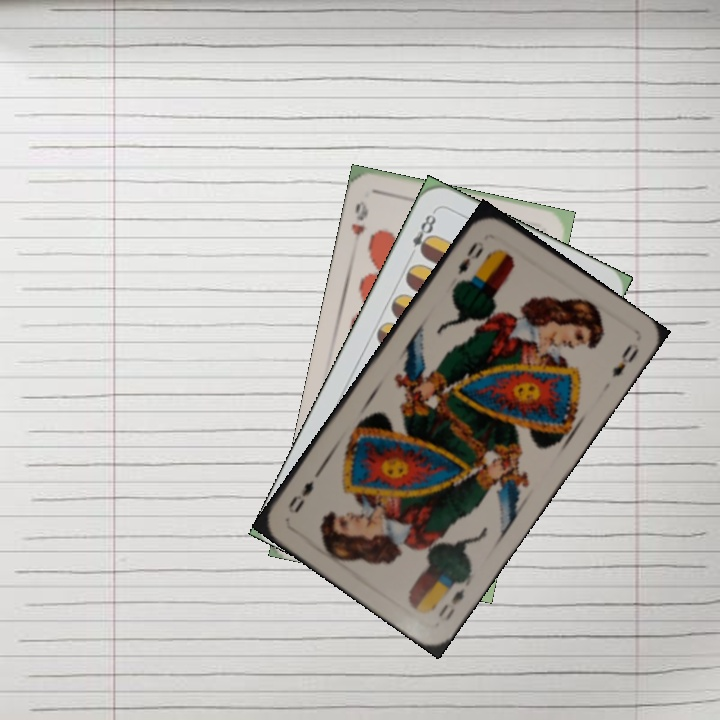E8: (405, 206, 439, 260)
EO: (453, 236, 487, 278), (434, 584, 467, 624)
H9: (347, 197, 371, 238)
